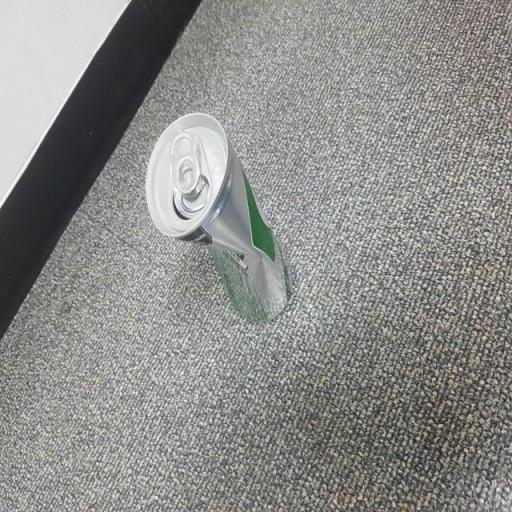metal: (109, 87, 302, 359)
